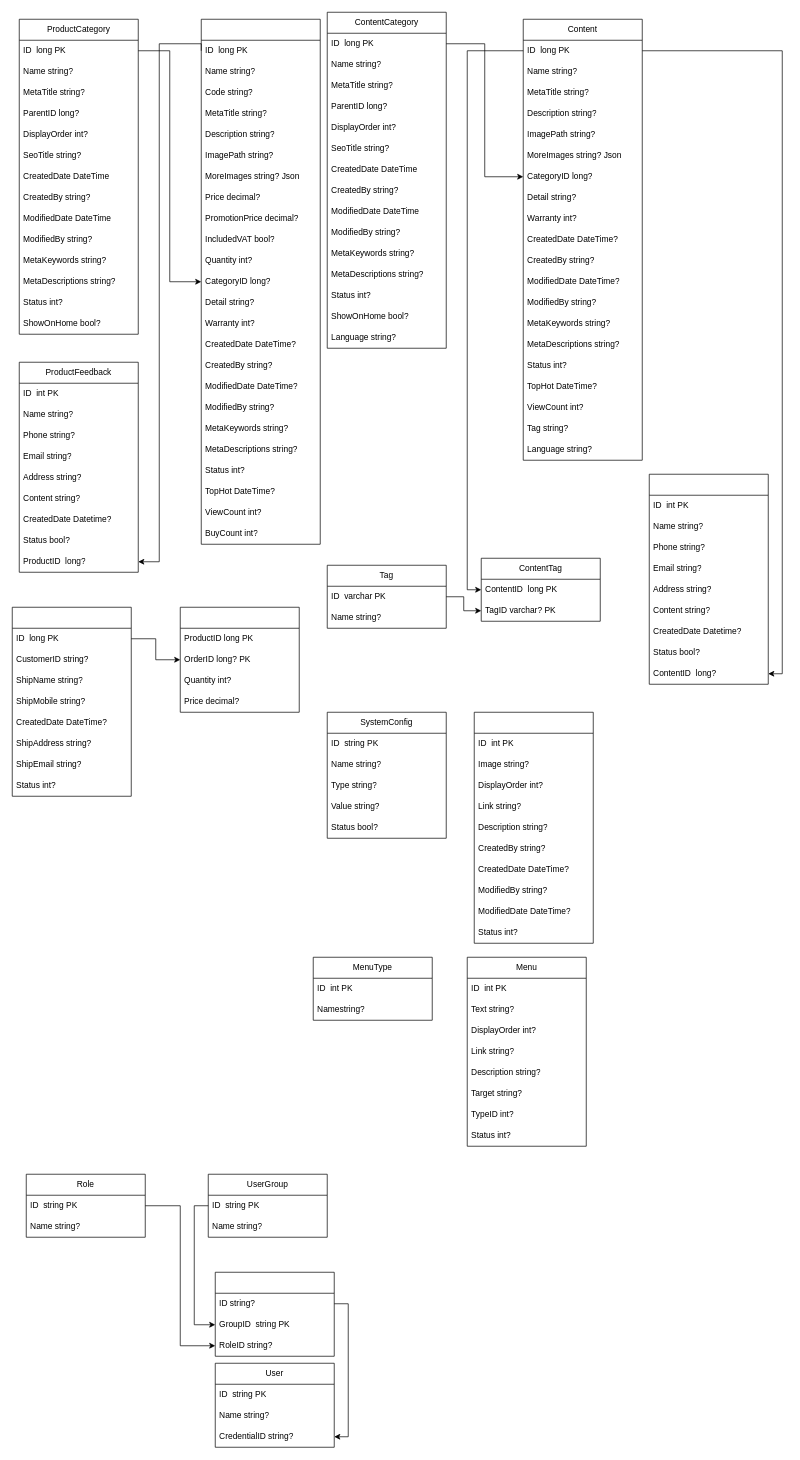
Some shapes in this 800 by 1460 pixel diagram are drawn without their labels. The box of each missing label's shape, as (x1, y1, x2, y2) in pixels:
ContentFeedback: (649, 474, 768, 684)
Credential: (215, 1272, 334, 1356)
Order: (12, 607, 131, 796)
OrderDetail: (180, 607, 299, 712)
Product: (201, 19, 320, 544)
Slide: (474, 712, 593, 943)
